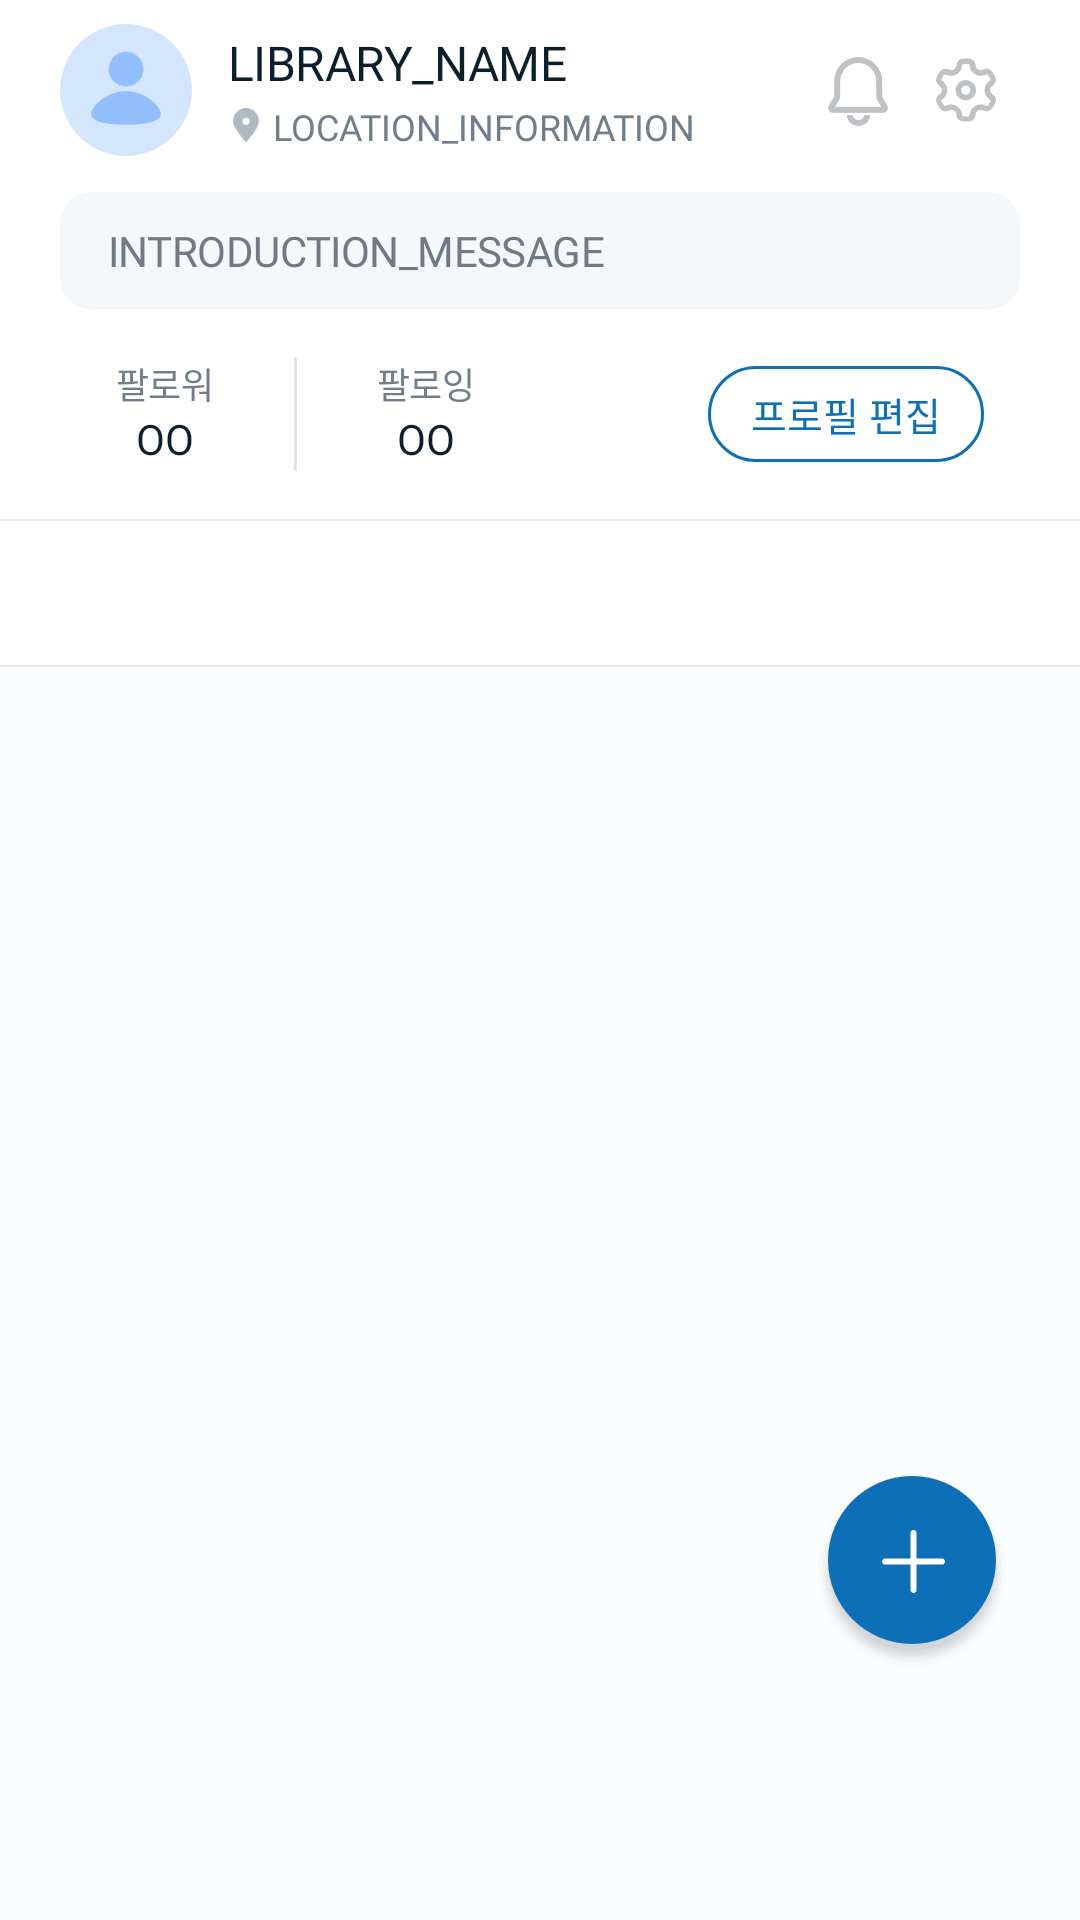

Icons on this 1080*1920 Android screen, each with its box as (x1, y1, x2, y2):
alarm: (828, 57, 888, 126)
plus: (828, 1476, 996, 1655)
profile: (60, 24, 192, 156)
setting: (936, 58, 996, 122)
